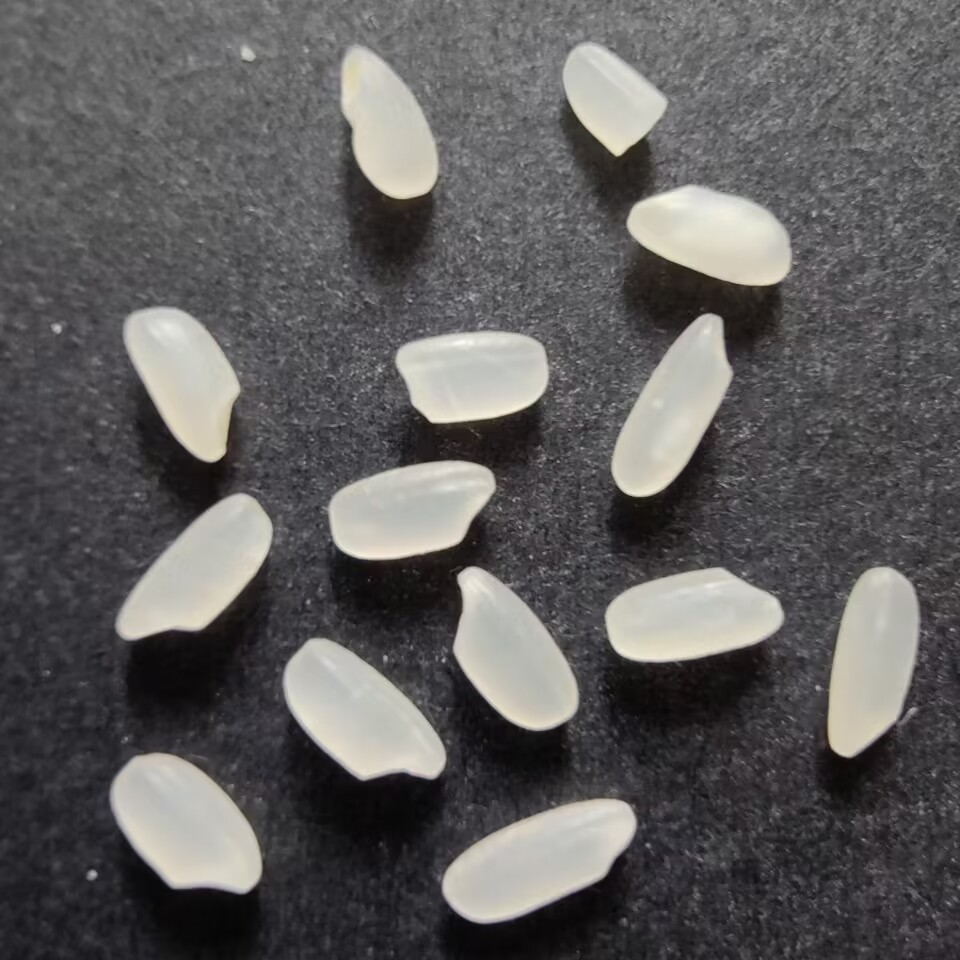broken: (393, 326, 552, 430), (558, 36, 671, 159)
rice: (110, 488, 279, 649), (439, 792, 644, 924), (607, 308, 743, 499), (281, 637, 452, 786), (104, 751, 269, 896), (449, 563, 583, 736), (117, 303, 247, 472), (822, 560, 928, 760), (600, 564, 790, 667), (622, 181, 795, 291), (320, 457, 499, 563), (336, 41, 439, 203)
